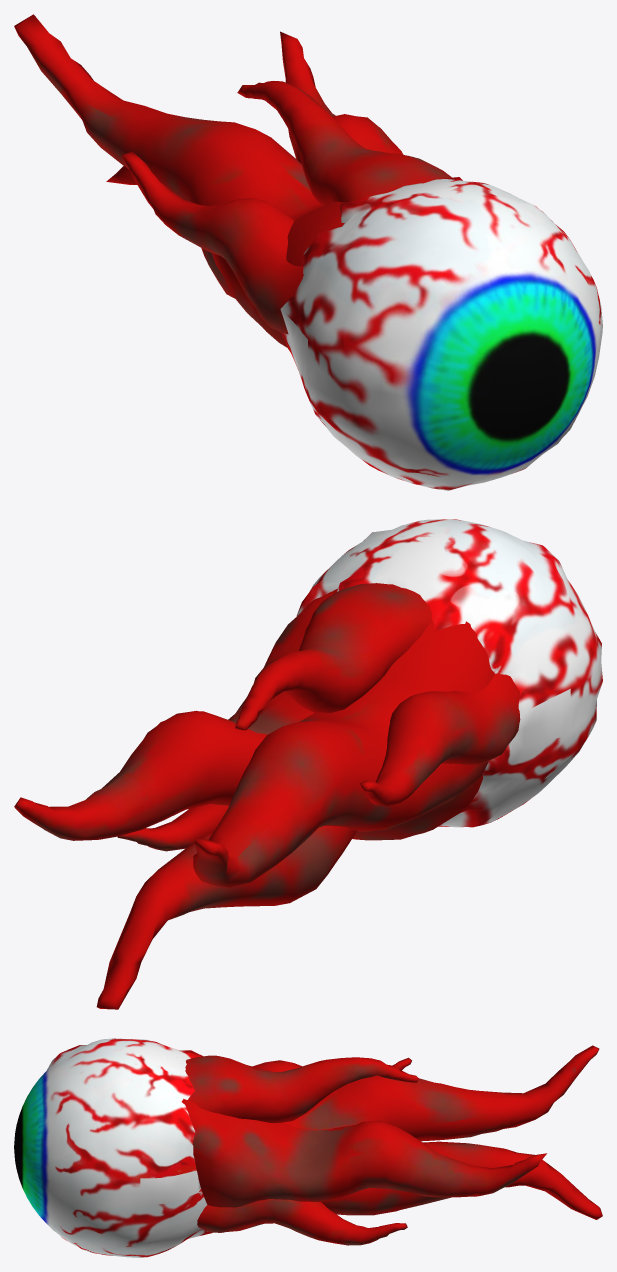
File: odc.glb
3 renders of one model, top to bottom at view 1: azimuth 30°, elevation 25°; view 2: azimuth 150°, elevation 25°; view 3: azimuth 270°, elevation 25°, orthographic. The views are drawn at different scales.
Visible parts, largest first — view 1: OJODECUTHULHU.001, OJODECUTHULHU.002; view 2: OJODECUTHULHU.002, OJODECUTHULHU.001; view 3: OJODECUTHULHU.002, OJODECUTHULHU.001.
Boxes of the visible parts, bbox=[...] form: OJODECUTHULHU.001: bbox=[280, 177, 602, 490]; OJODECUTHULHU.002: bbox=[14, 14, 451, 350]; OJODECUTHULHU.002: bbox=[14, 583, 520, 1009]; OJODECUTHULHU.001: bbox=[296, 519, 602, 827]; OJODECUTHULHU.002: bbox=[181, 1045, 602, 1245]; OJODECUTHULHU.001: bbox=[14, 1038, 212, 1257].
Size of the model in its own units: 1.74 by 1.68 by 4.54.
2 materials, 2 textured.
